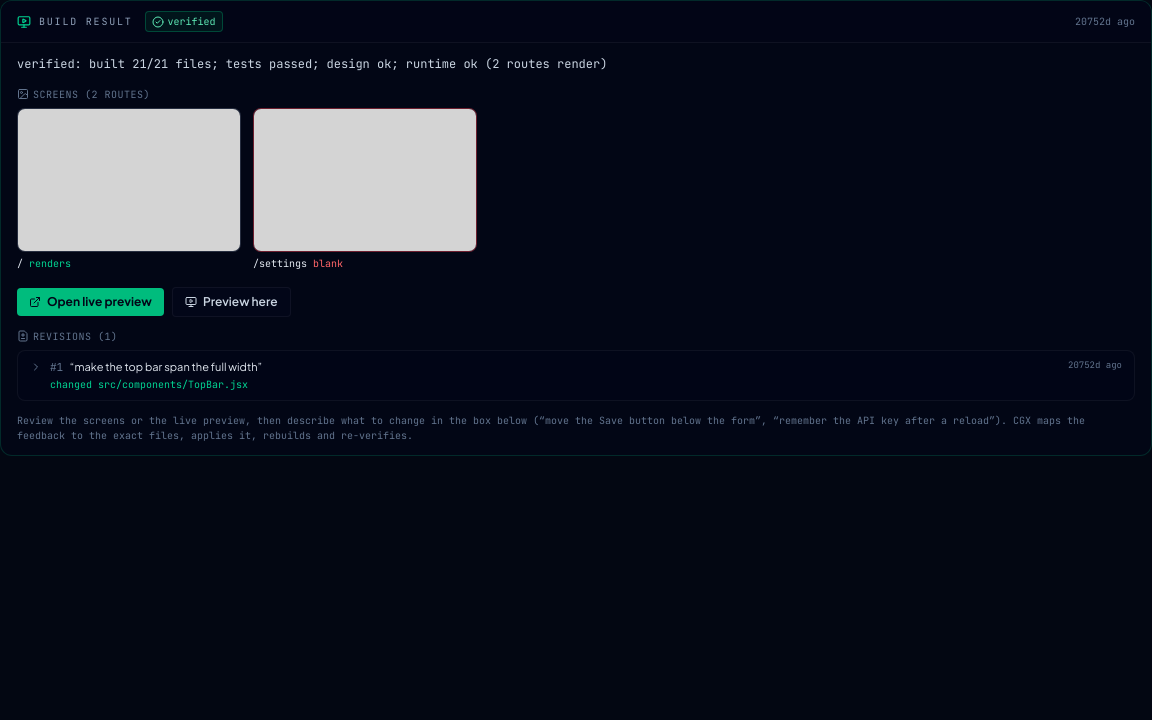
BuildResult › shows the verdict, one screenshot per route with its status, and the revision history
Expected: the text "verified: built 21/21 files" is shown, [17,56,607,72]
Expected: the text "verified" is shown, [145,11,223,32]
Click the text "#1 “make the top bar span the full width”" at (156, 366), box [50,360,262,374]
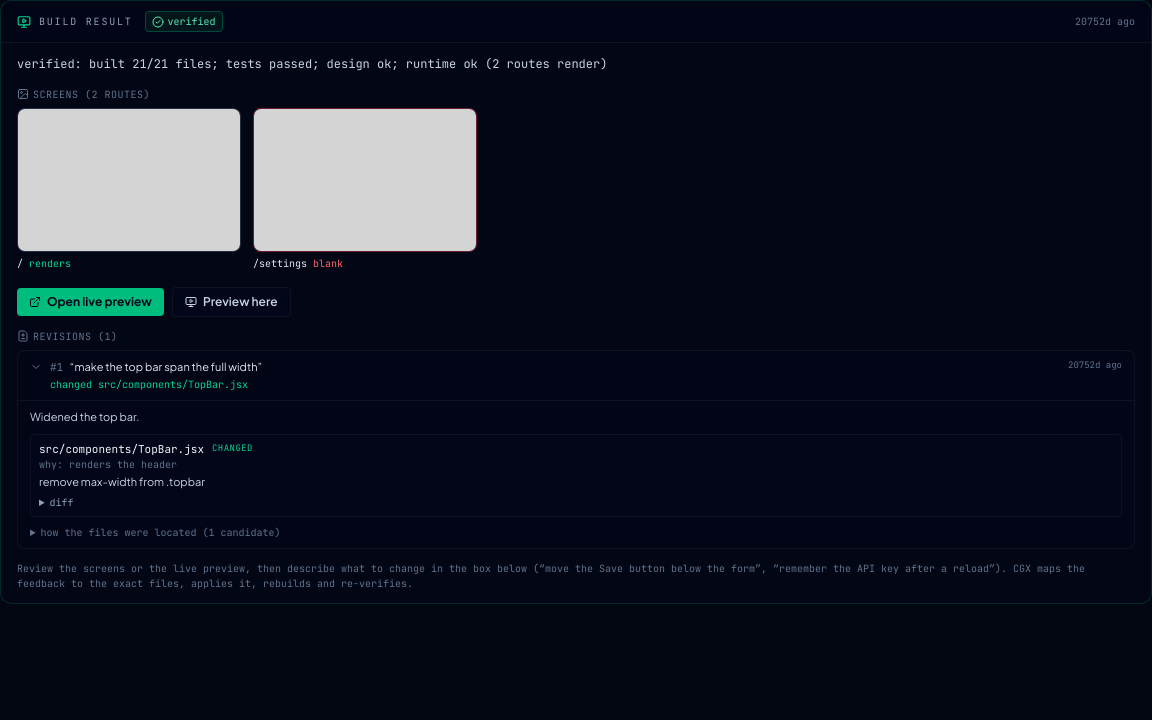
Expected: the button "Open live preview" is shown, [17,288,164,316]
Expected: the text "remove max-width from .topbar" is shown, [39,475,205,488]
Expected: the text "why: renders the header" is shown, [39,458,177,471]
